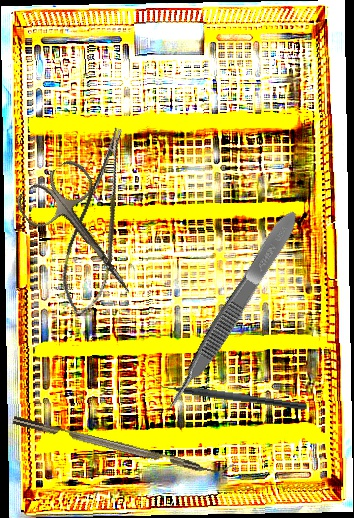Chopper: (12, 405, 235, 482), (149, 373, 309, 411)
Iris Scissors: (12, 155, 159, 316)
Micro Scissor: (47, 125, 157, 320)
Tissue Forceps: (158, 206, 305, 415)
